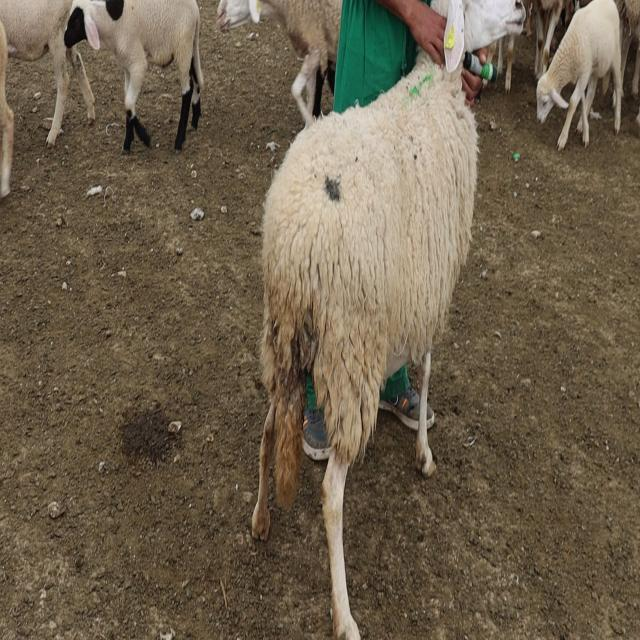Score_5: (252, 0, 525, 639)
